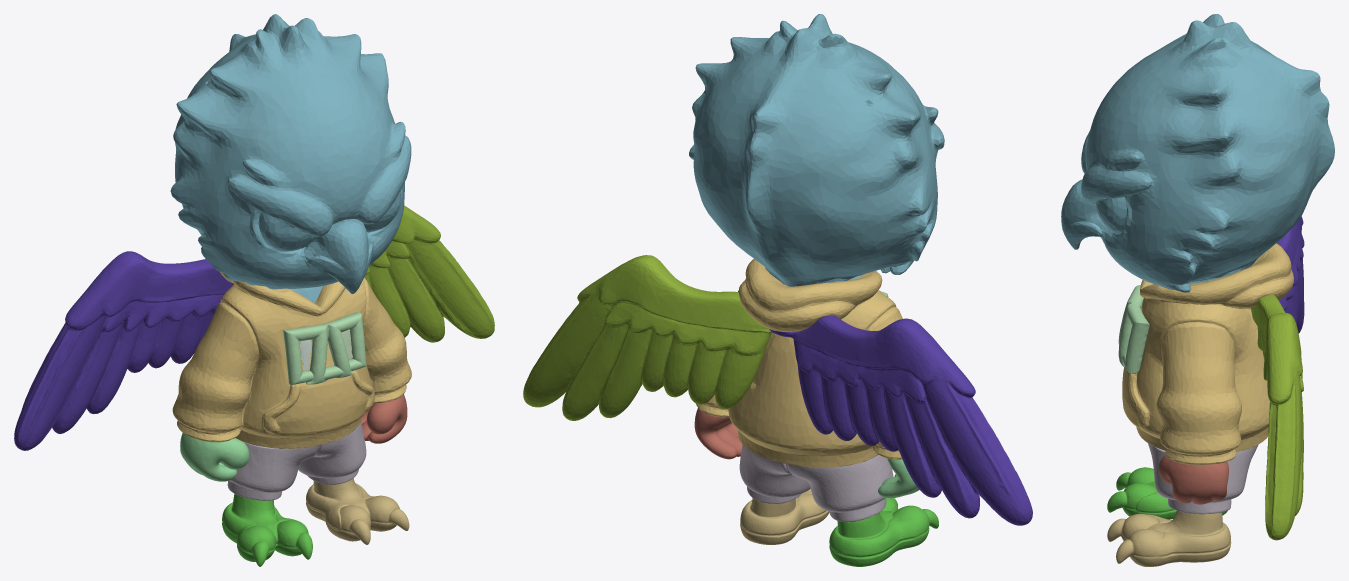
3 views of the same model, side by side, from view 1: azimuth 30°, elevation 25°; view 2: azimuth 150°, elevation 25°; view 3: azimuth 270°, elevation 25° (orthographic). The views are drawn at different scales.
Parts seen in each view (by area): view 1: world; view 2: world; view 3: world.
Part boxes in pixels (left/top/right/bottom): world: left=14, top=14, right=494, bottom=566; world: left=523, top=14, right=1032, bottom=566; world: left=1061, top=14, right=1334, bottom=566.
Bounding box in the file's own units: 2 × 2 × 0.9726.
